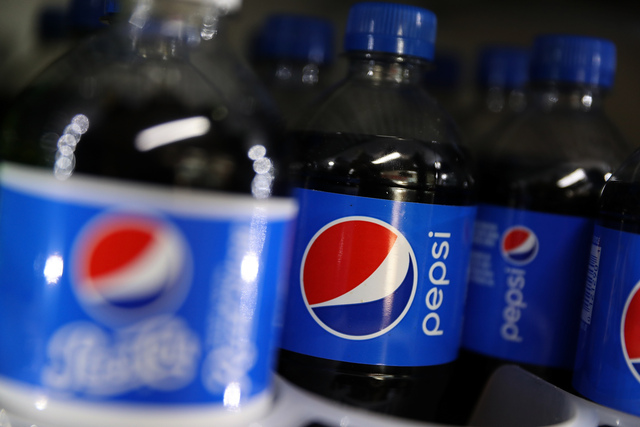pepsi: (299, 214, 417, 339), (301, 214, 417, 339), (301, 215, 417, 339), (74, 207, 171, 307), (85, 228, 171, 307), (501, 223, 538, 266)
